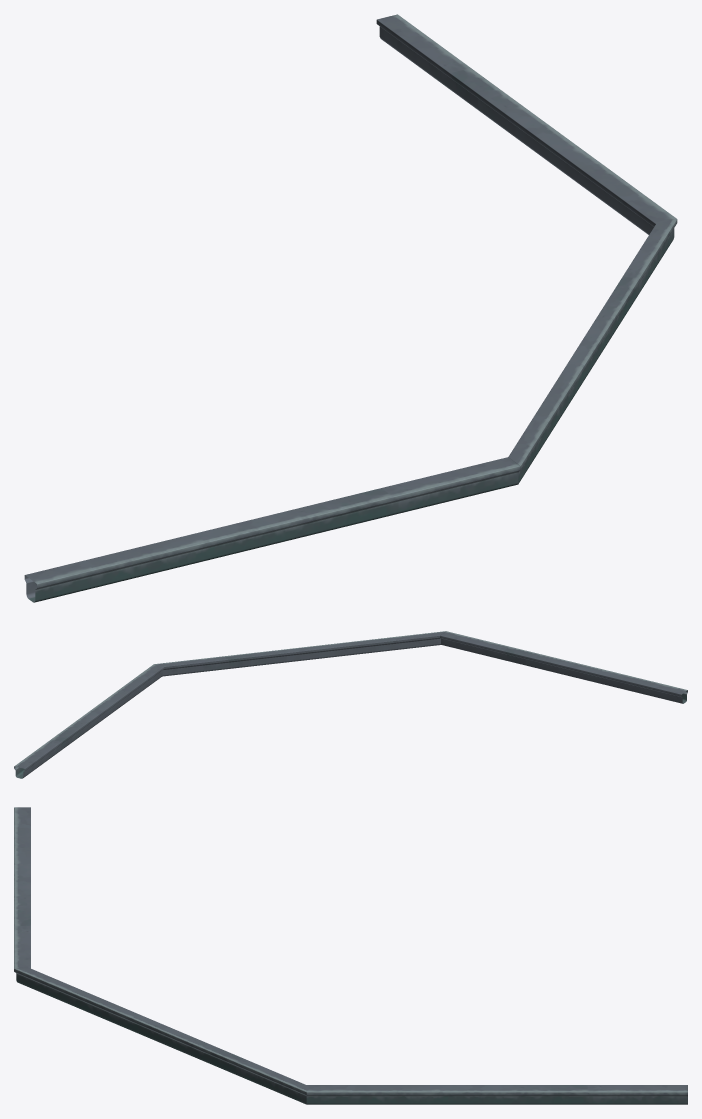
The model's file is Threshold_Beveled.fbx.
3 views of the same model, one above another, from view 1: azimuth 30°, elevation 25°; view 2: azimuth 150°, elevation 25°; view 3: azimuth 270°, elevation 25° (orthographic). The views are drawn at different scales.
Visible parts, largest first — view 1: Threshold_Beveled; view 2: Threshold_Beveled; view 3: Threshold_Beveled.
Part boxes in pixels (<box>): Threshold_Beveled: <box>24,14,677,602</box>; Threshold_Beveled: <box>14,631,687,778</box>; Threshold_Beveled: <box>14,807,687,1104</box>.
Size of the model in its own units: 505 by 12.07 by 505.
Materials: 1 (1 with a texture image).
